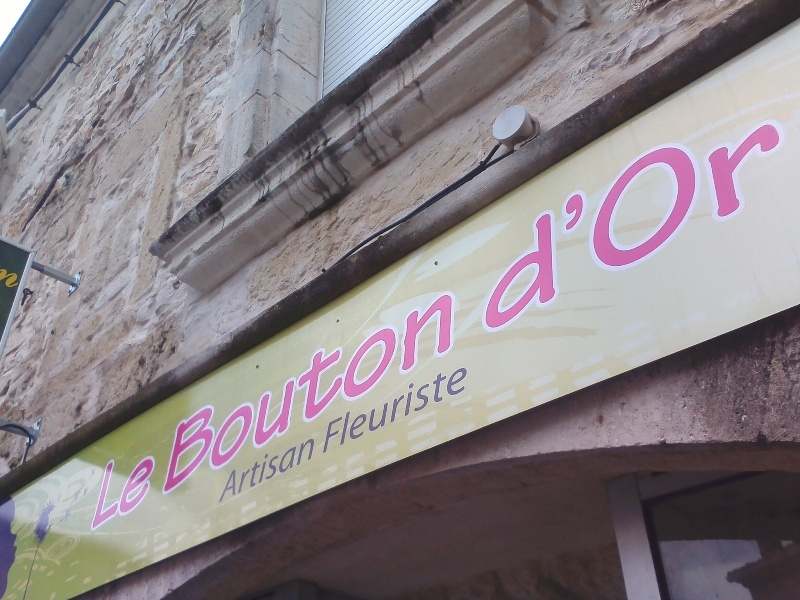text: (481, 92, 496, 338), (497, 92, 512, 338), (513, 92, 528, 338), (529, 92, 544, 338), (545, 92, 560, 338), (561, 92, 576, 338), (577, 92, 592, 338), (593, 92, 608, 338), (609, 92, 624, 338), (625, 92, 640, 338), (641, 92, 656, 338), (657, 92, 672, 338), (673, 92, 688, 338), (689, 92, 704, 338), (705, 92, 720, 338), (721, 92, 736, 338), (737, 92, 752, 338), (753, 92, 768, 338), (769, 92, 784, 338), (177, 286, 192, 498), (193, 286, 208, 498), (209, 286, 224, 498), (225, 286, 240, 498), (241, 286, 256, 498), (257, 286, 272, 498), (273, 286, 288, 498), (289, 286, 304, 498), (305, 286, 320, 498), (321, 286, 336, 498), (337, 286, 352, 498), (353, 286, 368, 498), (369, 286, 384, 498), (385, 286, 400, 498), (401, 286, 416, 498), (417, 286, 432, 498), (433, 286, 448, 498), (785, 92, 796, 338), (337, 359, 352, 457), (353, 359, 368, 457), (369, 359, 384, 457), (385, 359, 400, 457), (401, 359, 416, 457), (417, 359, 432, 457), (433, 359, 448, 457), (449, 359, 464, 457), (449, 286, 455, 498), (113, 454, 128, 533), (129, 454, 144, 533), (241, 427, 256, 506), (257, 427, 272, 506), (273, 427, 288, 506), (289, 427, 304, 506), (305, 427, 320, 506), (145, 454, 157, 533), (228, 427, 240, 506), (327, 359, 336, 457), (477, 92, 480, 338), (105, 454, 112, 533), (465, 359, 470, 457), (2, 268, 16, 290), (321, 427, 322, 506), (17, 268, 20, 290)
